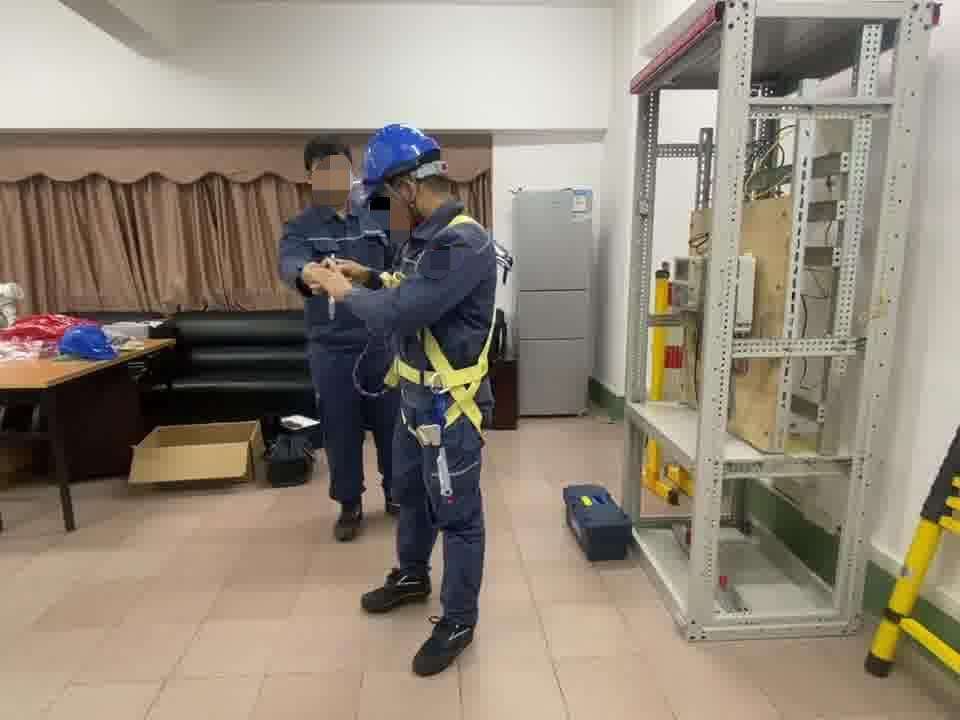halt: (365, 125, 449, 218)
inear: (389, 170, 428, 222)
unhalt: (305, 140, 355, 209)
